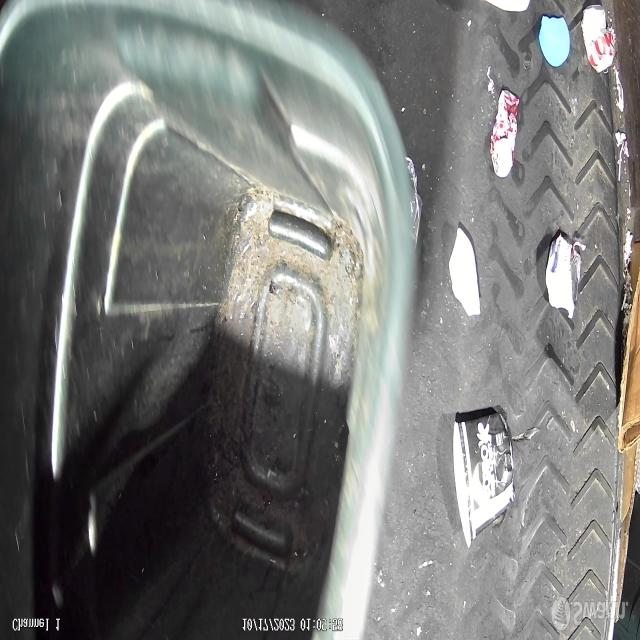can: (490, 89, 521, 178), (582, 4, 619, 76), (546, 236, 580, 312)
